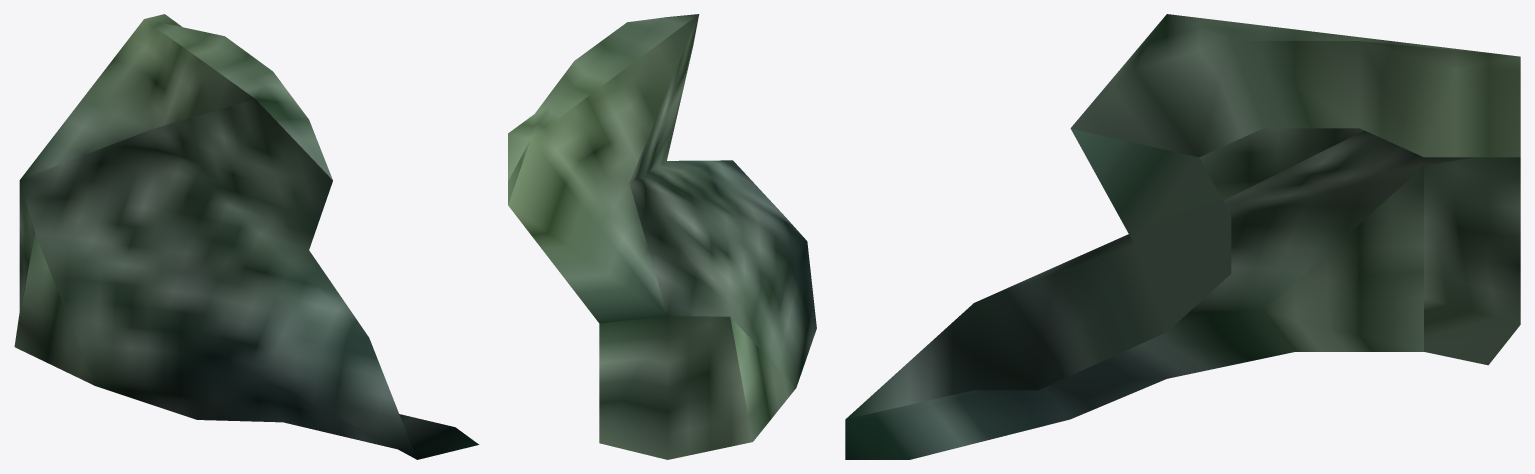
3 views of the same model, side by side, from view 1: azimuth 30°, elevation 25°; view 2: azimuth 150°, elevation 25°; view 3: azimuth 270°, elevation 25° (orthographic). The views are drawn at different scales.
Visible parts, largest first — view 1: 30436272704361504537_0; view 2: 30436272704361504537_0; view 3: 30436272704361504537_0.
Part boxes in pixels (x1,y1,x2,y2): 30436272704361504537_0: [14, 14, 479, 459]; 30436272704361504537_0: [508, 14, 816, 459]; 30436272704361504537_0: [845, 14, 1520, 459].
Bounding box in the file's own units: 1.84 × 2 × 3.24.
1 material, 1 textured.
